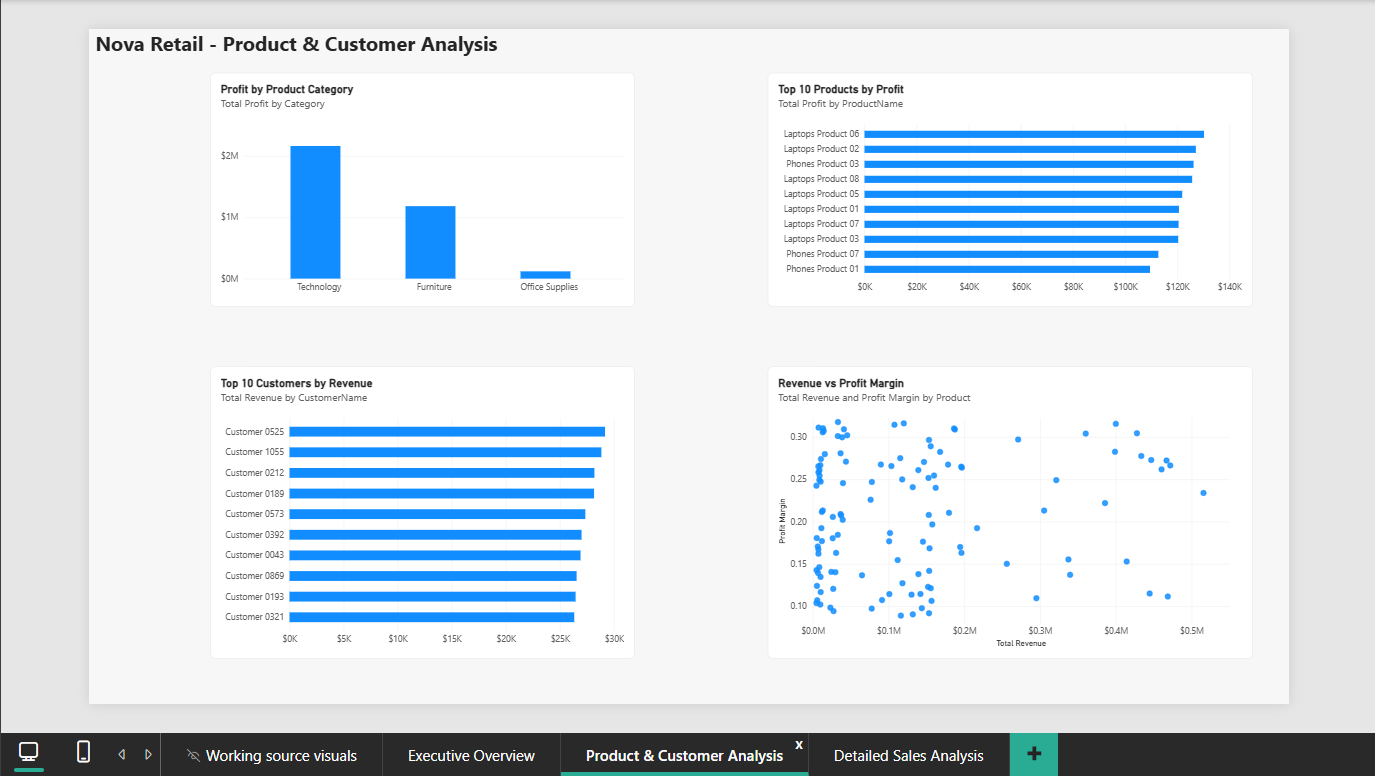

The dashboard page shown, as its layout file describes it:
{"tool":"powerbi","page":{"name":"Product  & Customer Analysis","canvas":[1920,1080],"ordinal":2},"visuals":[{"type":"textbox","box":[10.3,0,699.8,70],"z":0},{"type":"clusteredColumnChart","title":"Profit by Product Category","fields":{"Category":["Products.Category"],"Y":["Sales_Raw.Total Profit"]},"box":[193.5,70,679.2,374.6],"z":1000},{"type":"clusteredBarChart","title":"Top 10 Products by Profit","fields":{"Category":["Products.ProductName"],"Y":["Sales_Raw.Total Profit"]},"box":[1086.8,70,776,374.6],"z":2000},{"type":"clusteredBarChart","title":"Top 10 Customers by Revenue","fields":{"Category":["Customers.CustomerName"],"Y":["Sales_Raw.Total Revenue"]},"box":[193.5,539.3,679.2,467.2],"z":3000},{"type":"scatterChart","title":"Revenue vs Profit Margin","fields":{"X":["Sales_Raw.Total Revenue"],"Y":["Sales_Raw.Profit Margin"],"Category":["Products.ProductName"]},"box":[1086.8,539.3,776,467.2],"z":4000}]}

Visuals, with their boxes on the page's 1920x1080 design canvas (x1, y1, x2, y2). These are canvas units, not pixel positions in the 1375x776 screenshot, which may show the page scaled, cropped or inside an application window:
textbox: x1=10 y1=0 x2=710 y2=70
"Profit by Product Category" clusteredColumnChart: x1=194 y1=70 x2=873 y2=445
"Top 10 Products by Profit" clusteredBarChart: x1=1087 y1=70 x2=1863 y2=445
"Top 10 Customers by Revenue" clusteredBarChart: x1=194 y1=539 x2=873 y2=1006
"Revenue vs Profit Margin" scatterChart: x1=1087 y1=539 x2=1863 y2=1006
